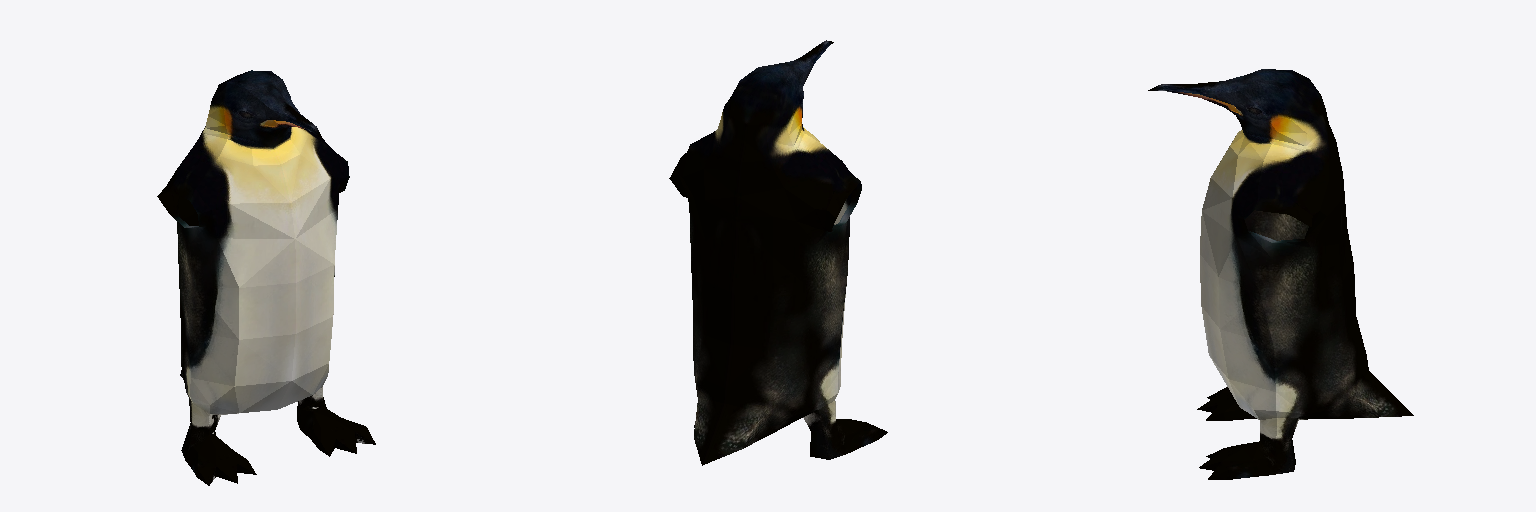
3 views of the same model, side by side, from view 1: azimuth 30°, elevation 25°; view 2: azimuth 150°, elevation 25°; view 3: azimuth 270°, elevation 25° (orthographic).
Visible parts, largest first — view 1: BodyPinguino, Pie_der, Pie_izq; view 2: BodyPinguino, Pie_der; view 3: BodyPinguino, Pie_izq, Pie_der.
Part boxes in pixels (left/top/right/bottom): BodyPinguino: left=157, top=70, right=349, bottom=427; Pie_der: left=181, top=416, right=256, bottom=485; Pie_izq: left=297, top=397, right=375, bottom=456; BodyPinguino: left=669, top=40, right=861, bottom=465; Pie_der: left=810, top=419, right=887, bottom=459; BodyPinguino: left=1148, top=69, right=1413, bottom=440; Pie_izq: left=1199, top=435, right=1295, bottom=479; Pie_der: left=1197, top=387, right=1256, bottom=420.
Size of the model in its own units: 0.9573 by 1.97 by 1.31.
3 materials, 1 textured.